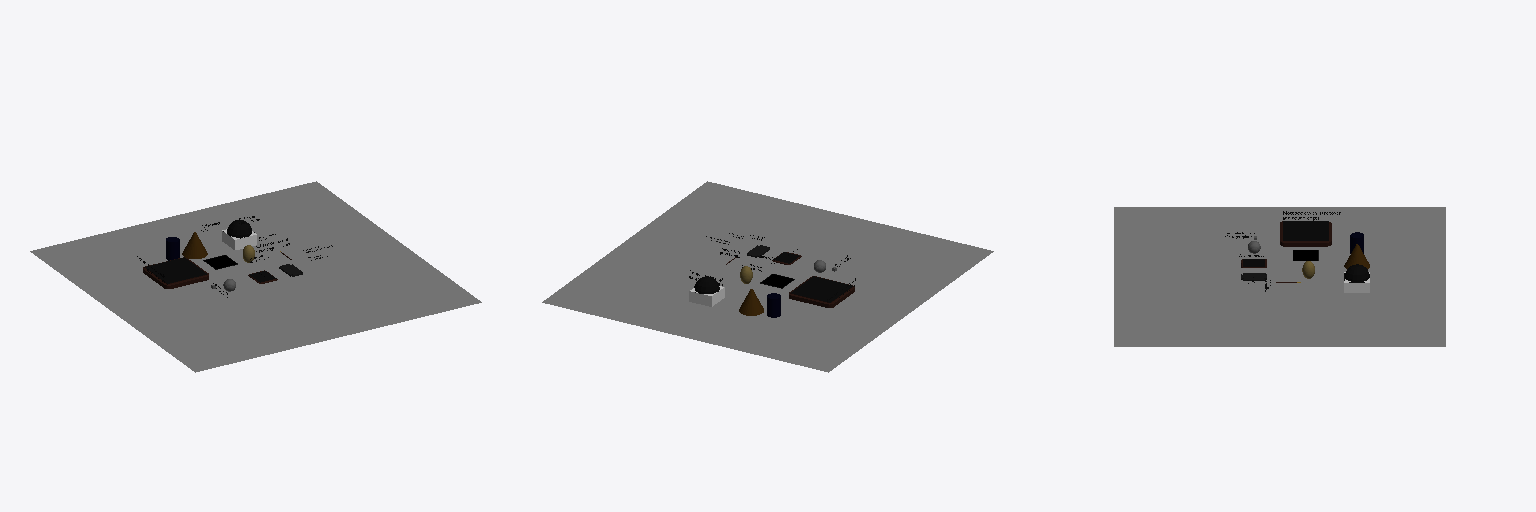
File: renders.obj
The picture shows the model from 3 angles: view 1: azimuth 30°, elevation 25°; view 2: azimuth 150°, elevation 25°; view 3: azimuth 270°, elevation 25°; orthographic projection.
Parts seen in each view (by area): view 1: Plane, Cube.001, 1_0; view 2: Plane, Cube.001, 1_0; view 3: Plane, Cube.001, 1_0.
Part boxes in pixels (x1,y1,x2,y2): Plane: (30, 181, 481, 372); Cube.001: (143, 257, 208, 288); 1_0: (222, 220, 256, 249); Plane: (542, 181, 993, 372); Cube.001: (789, 276, 854, 307); 1_0: (689, 276, 724, 306); Plane: (1114, 207, 1445, 346); Cube.001: (1280, 221, 1331, 246); 1_0: (1344, 264, 1369, 292).
Bounding box in the file's own units: 12.86 × 1.87 × 12.86.